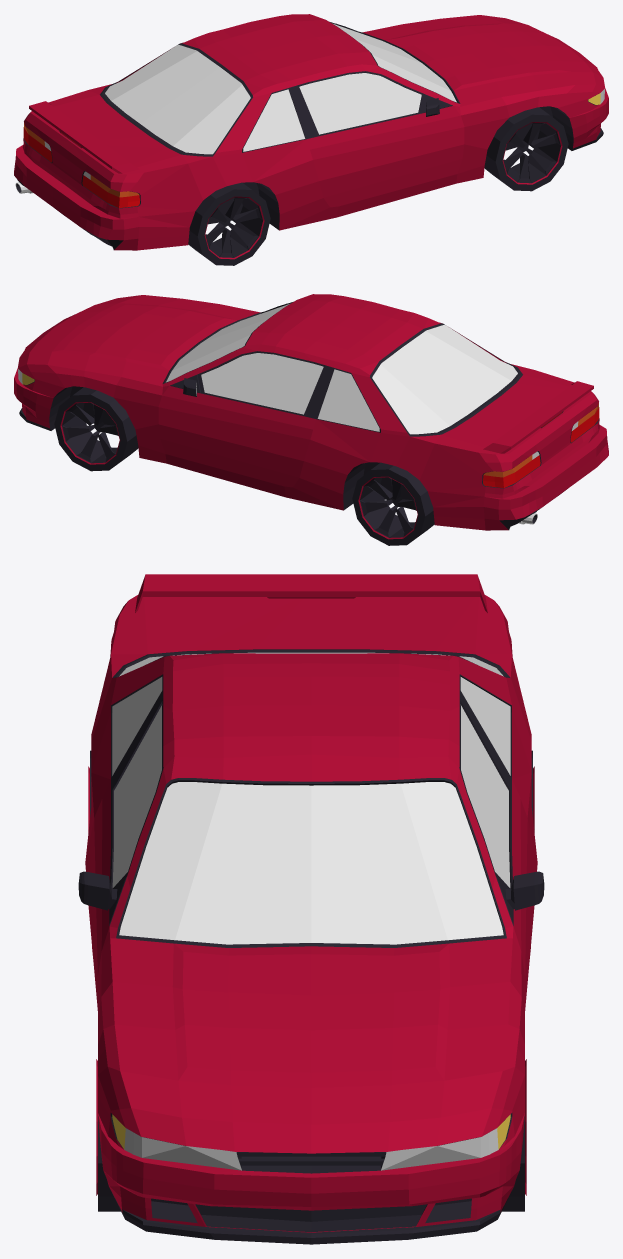
File: low_poly_nissan_silvia_s13.glb
The picture shows the model from 3 angles, top to bottom: view 1: azimuth 30°, elevation 25°; view 2: azimuth 150°, elevation 25°; view 3: azimuth 270°, elevation 25°; orthographic projection. The views are drawn at different scales.
Parts seen in each view (by area): view 1: object 1, FrontRightWheel, BackRightWheel; view 2: object 1, FrontLeftWheel, BackLeftWheel; view 3: object 1, FrontLeftWheel, FrontRightWheel.
Boxes of the visible parts, <box> form: object 1: <box>14,14,608,250</box>; FrontRightWheel: <box>484,107,568,191</box>; BackRightWheel: <box>188,182,270,265</box>; object 1: <box>14,294,608,530</box>; FrontLeftWheel: <box>54,387,138,471</box>; BackLeftWheel: <box>352,462,434,545</box>; object 1: <box>78,574,544,1244</box>; FrontLeftWheel: <box>502,1059,526,1211</box>; FrontRightWheel: <box>96,1059,120,1211</box>.
Bounding box in the file's own units: 8.84 × 2.46 × 3.36.
